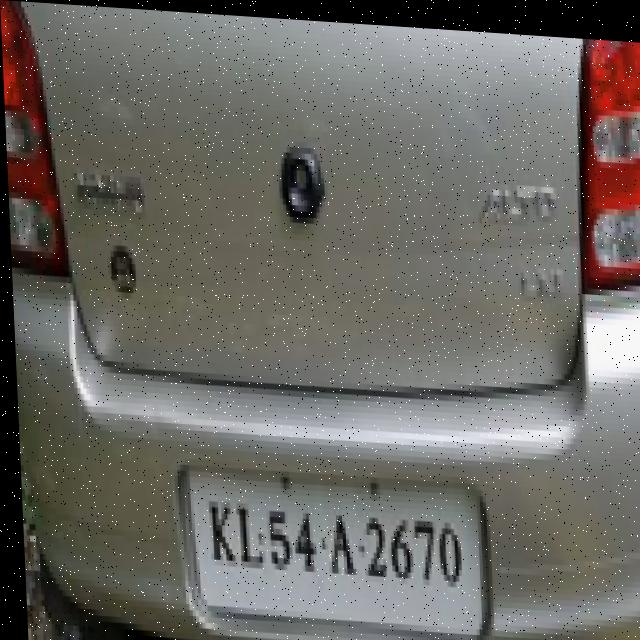plate: (188, 470, 481, 630)
